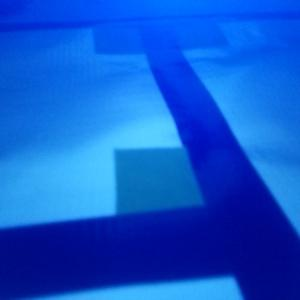bottom_left: (94, 17, 170, 54)
bottom_right: (141, 15, 228, 48)
top_left: (115, 148, 243, 274)
